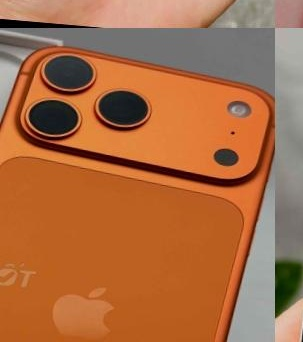scratch: (295, 0, 303, 28)
